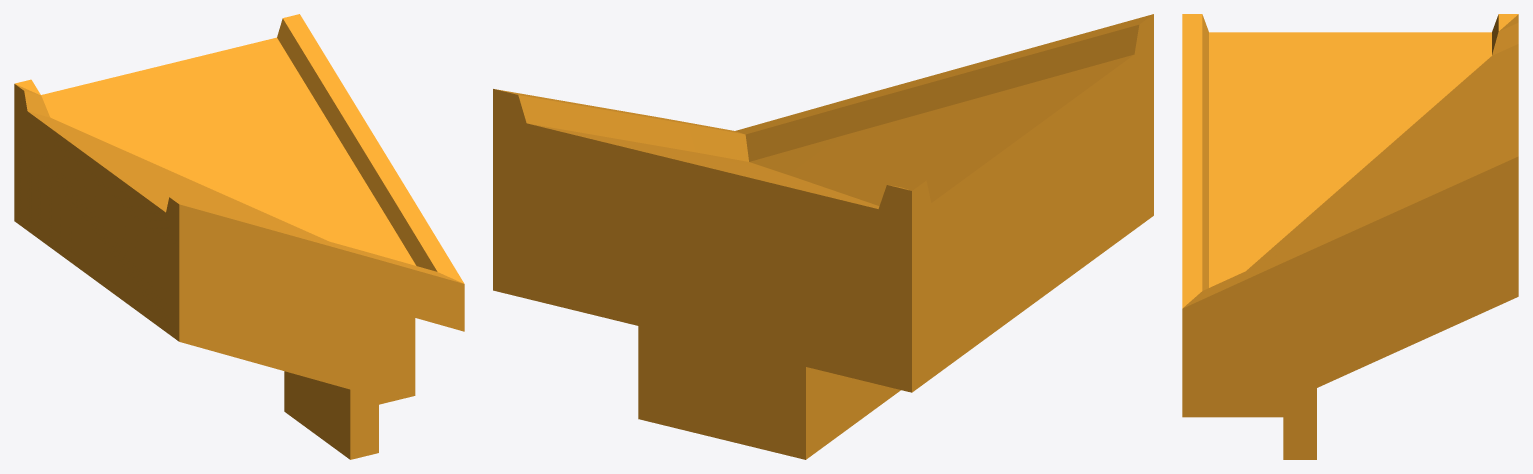
File: SM_Roof_Metal_Moderate_Edge_Corner_B.fbx
The picture shows the model from 3 angles, left to right: view 1: azimuth 30°, elevation 25°; view 2: azimuth 150°, elevation 25°; view 3: azimuth 270°, elevation 25°; orthographic projection. The views are drawn at different scales.
Visible parts, largest first — view 1: roof-metal-moderate-edge-corner-b; view 2: roof-metal-moderate-edge-corner-b; view 3: roof-metal-moderate-edge-corner-b.
Boxes of the visible parts, x1,y1,x2,y2 form: roof-metal-moderate-edge-corner-b: (14,14,464,459); roof-metal-moderate-edge-corner-b: (493,14,1153,459); roof-metal-moderate-edge-corner-b: (1182,14,1518,459).
Size of the model in its own units: 0.5 by 0.4978 by 0.5.
